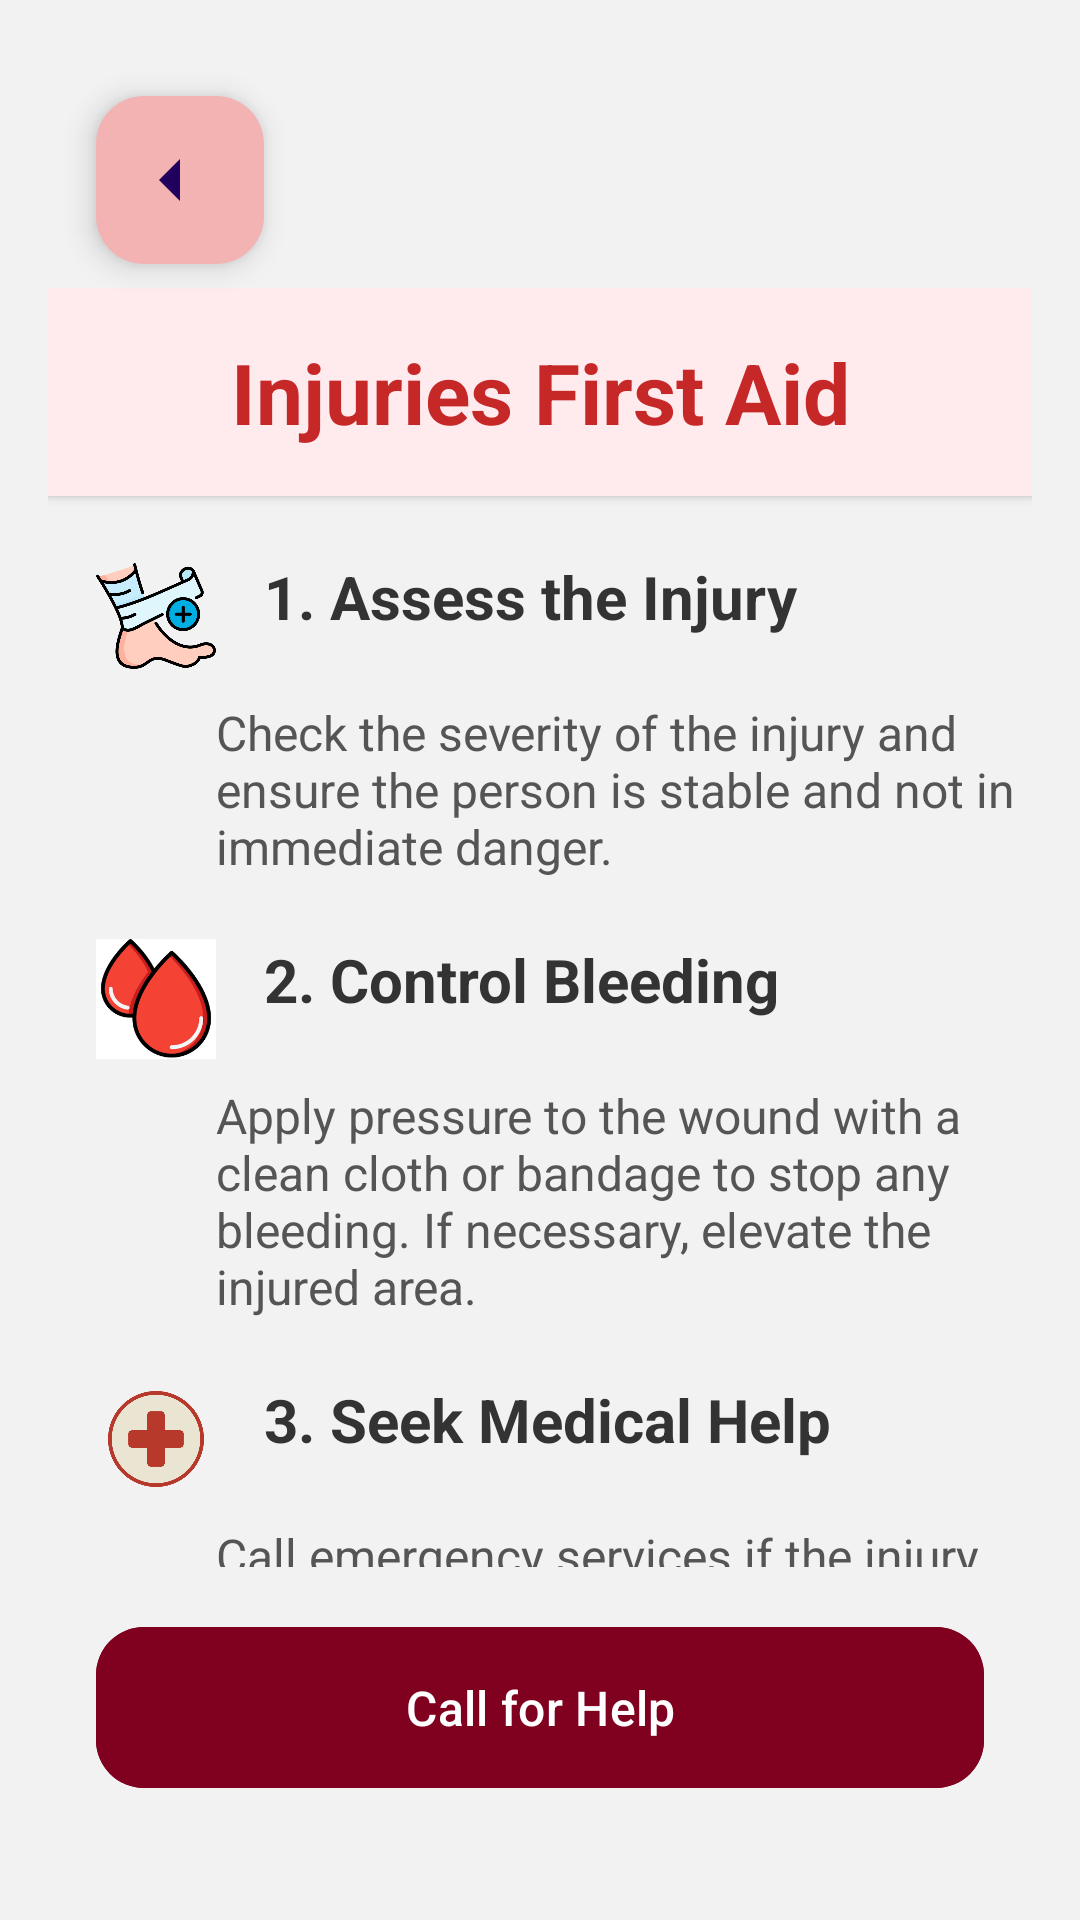

Icon click points for this 1080×1920 phone screenshot, format [x,y]:
Back Button: [180,180]
